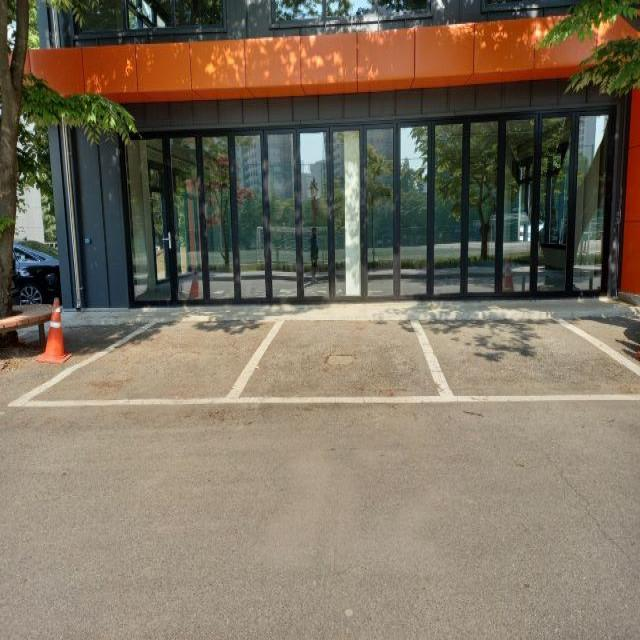empty: (52, 304, 250, 414), (249, 304, 438, 411), (435, 312, 631, 409)
